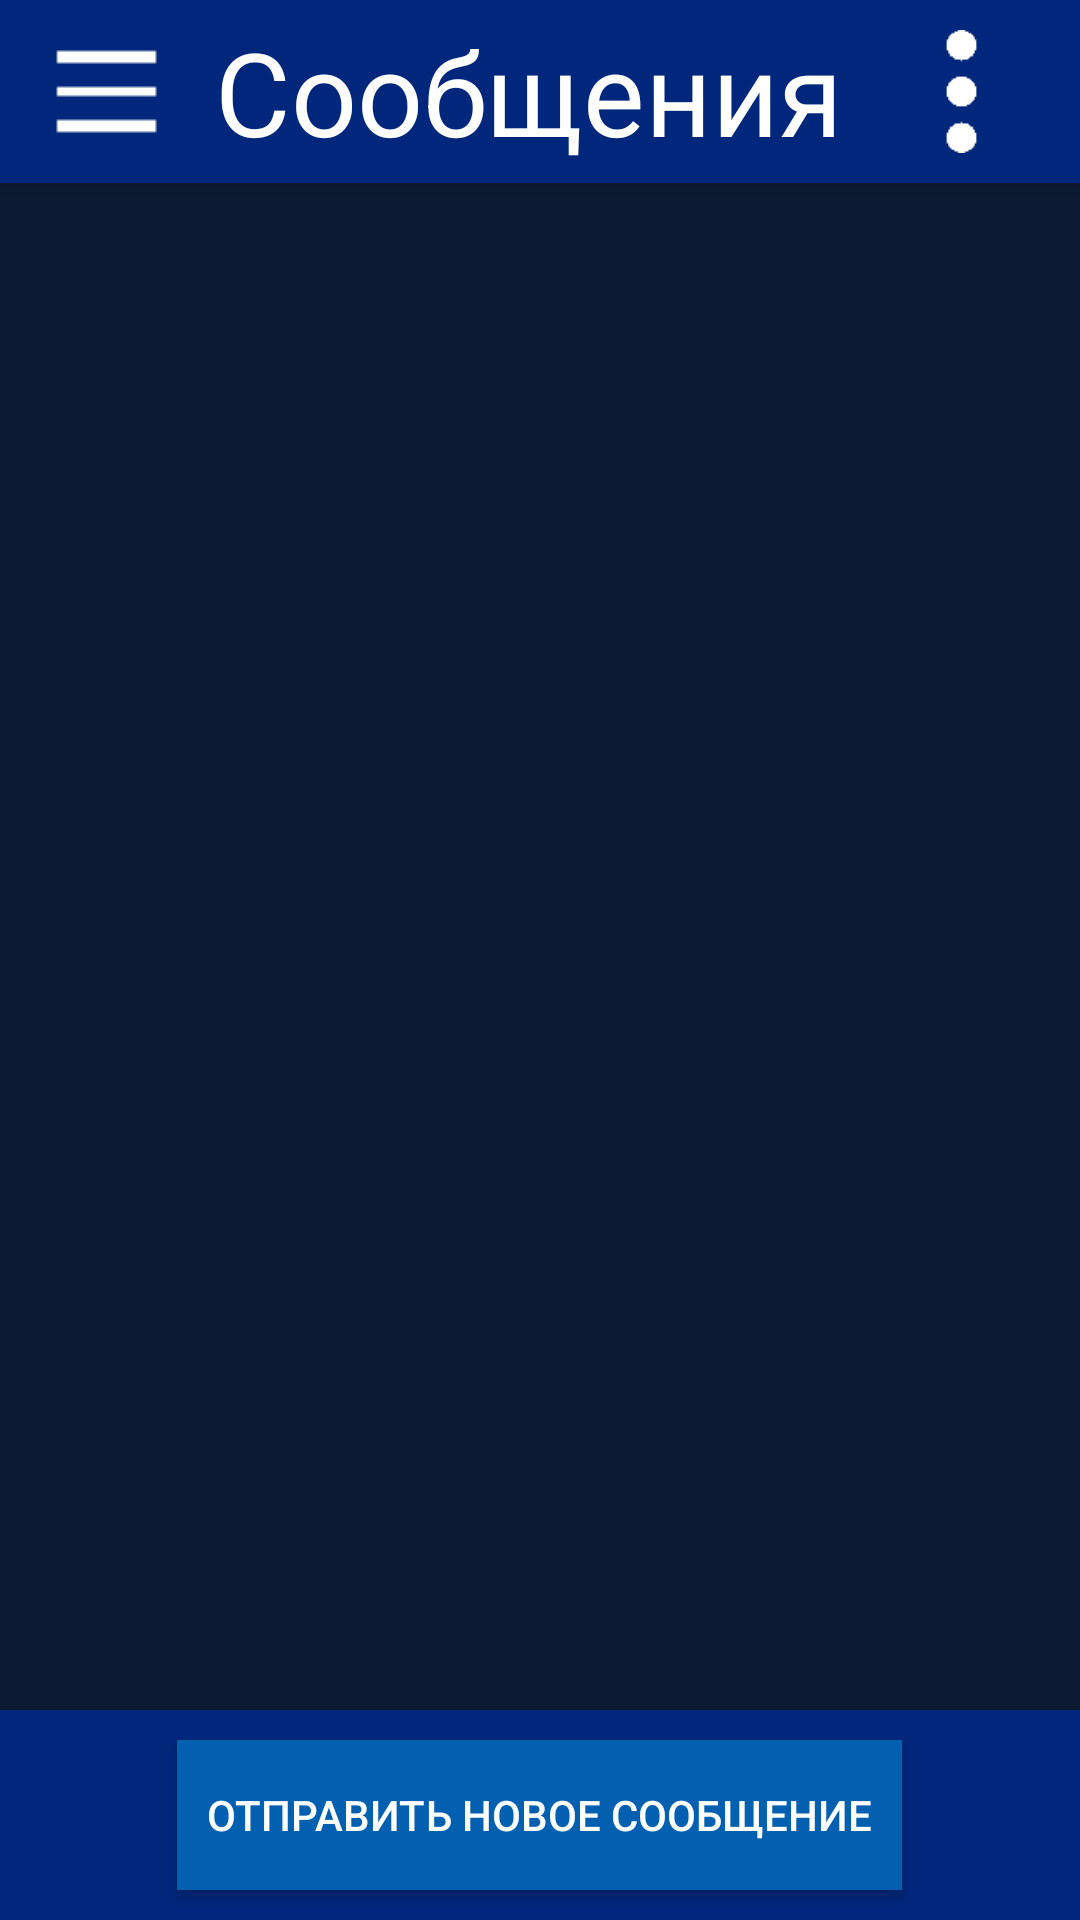

Screen size 1080×1920. Icon name, then its center in pixels as [x,y]:
leftmenuicon: [106,91]
